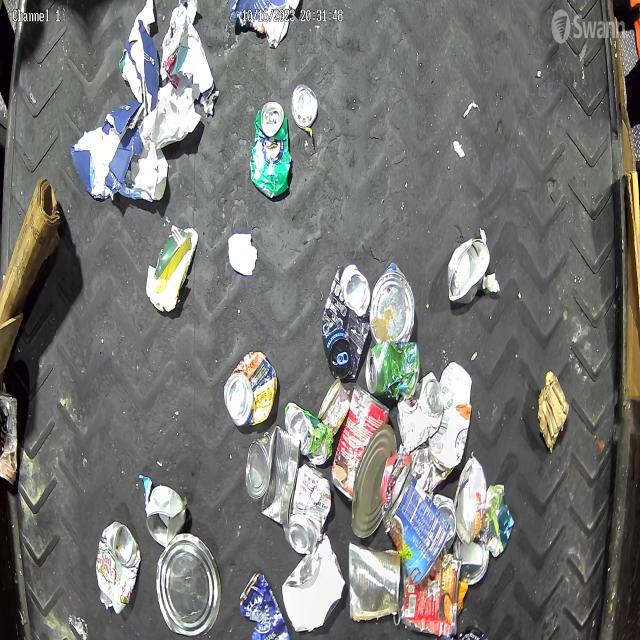can: (382, 472, 450, 588), (332, 386, 392, 502), (245, 426, 302, 528), (322, 263, 372, 379), (352, 424, 398, 538), (96, 520, 142, 616), (349, 540, 402, 623), (284, 464, 332, 554), (224, 350, 278, 428), (250, 100, 292, 198), (396, 371, 444, 453), (369, 262, 416, 342), (239, 570, 290, 640), (364, 340, 419, 400), (285, 402, 333, 466), (448, 232, 490, 302), (454, 455, 486, 546), (146, 488, 187, 550), (318, 379, 352, 436), (454, 536, 490, 586), (0, 393, 19, 486), (434, 493, 456, 551), (292, 84, 318, 128)
